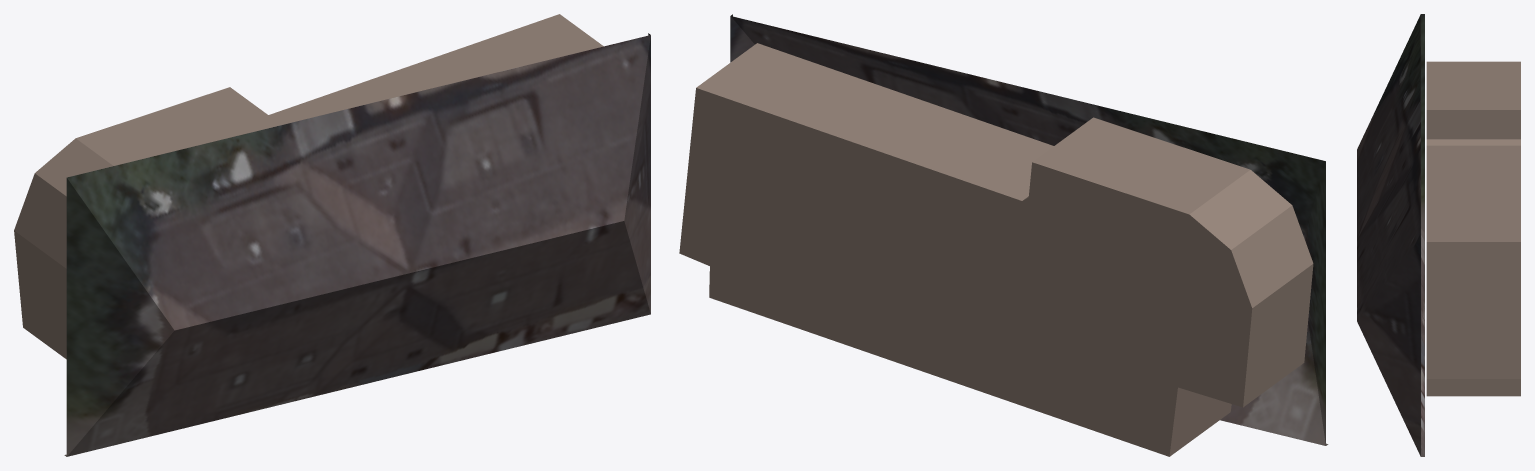
Rendered from hofgut_tex.glb.
3 renders of one model, left to right at view 1: azimuth 30°, elevation 25°; view 2: azimuth 150°, elevation 25°; view 3: azimuth 270°, elevation 25°, orthographic. The views are drawn at different scales.
Visible parts, largest first — view 1: dach_dop, waende_holz; view 2: waende_holz, dach_dop; view 3: waende_holz, dach_dop.
Boxes of the visible parts, x1=… form: dach_dop: x1=64, y1=33, x2=650, y2=456; waende_holz: x1=14, y1=14, x2=603, y2=359; waende_holz: x1=679, y1=43, x2=1313, y2=456; dach_dop: x1=730, y1=14, x2=1328, y2=445; waende_holz: x1=1426, y1=61, x2=1520, y2=396; dach_dop: x1=1357, y1=14, x2=1424, y2=456.
Size of the model in its own units: 52.62 by 24.05 by 16.29.
2 materials, 2 textured.
